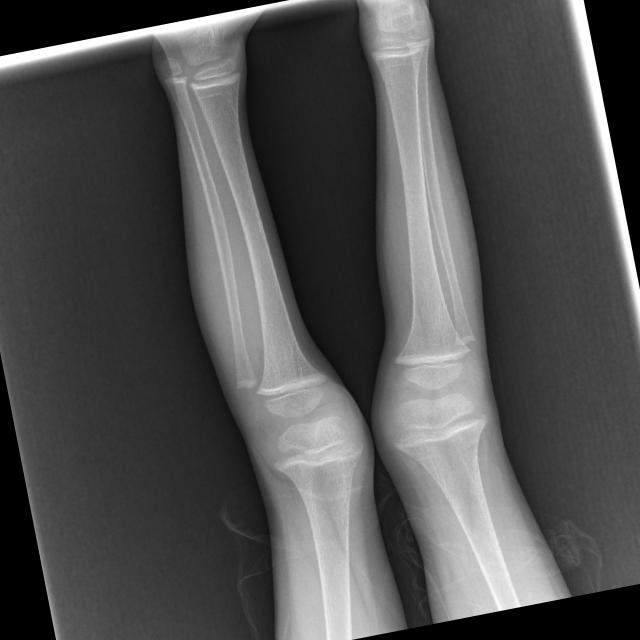Knee: (247, 358, 371, 493), (375, 331, 495, 459)
